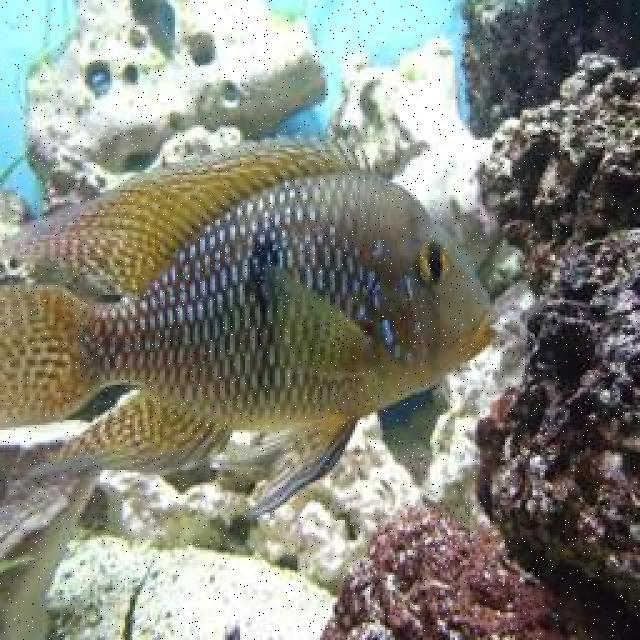fish: (0, 129, 500, 522)
sea-floor: (321, 0, 638, 638)
